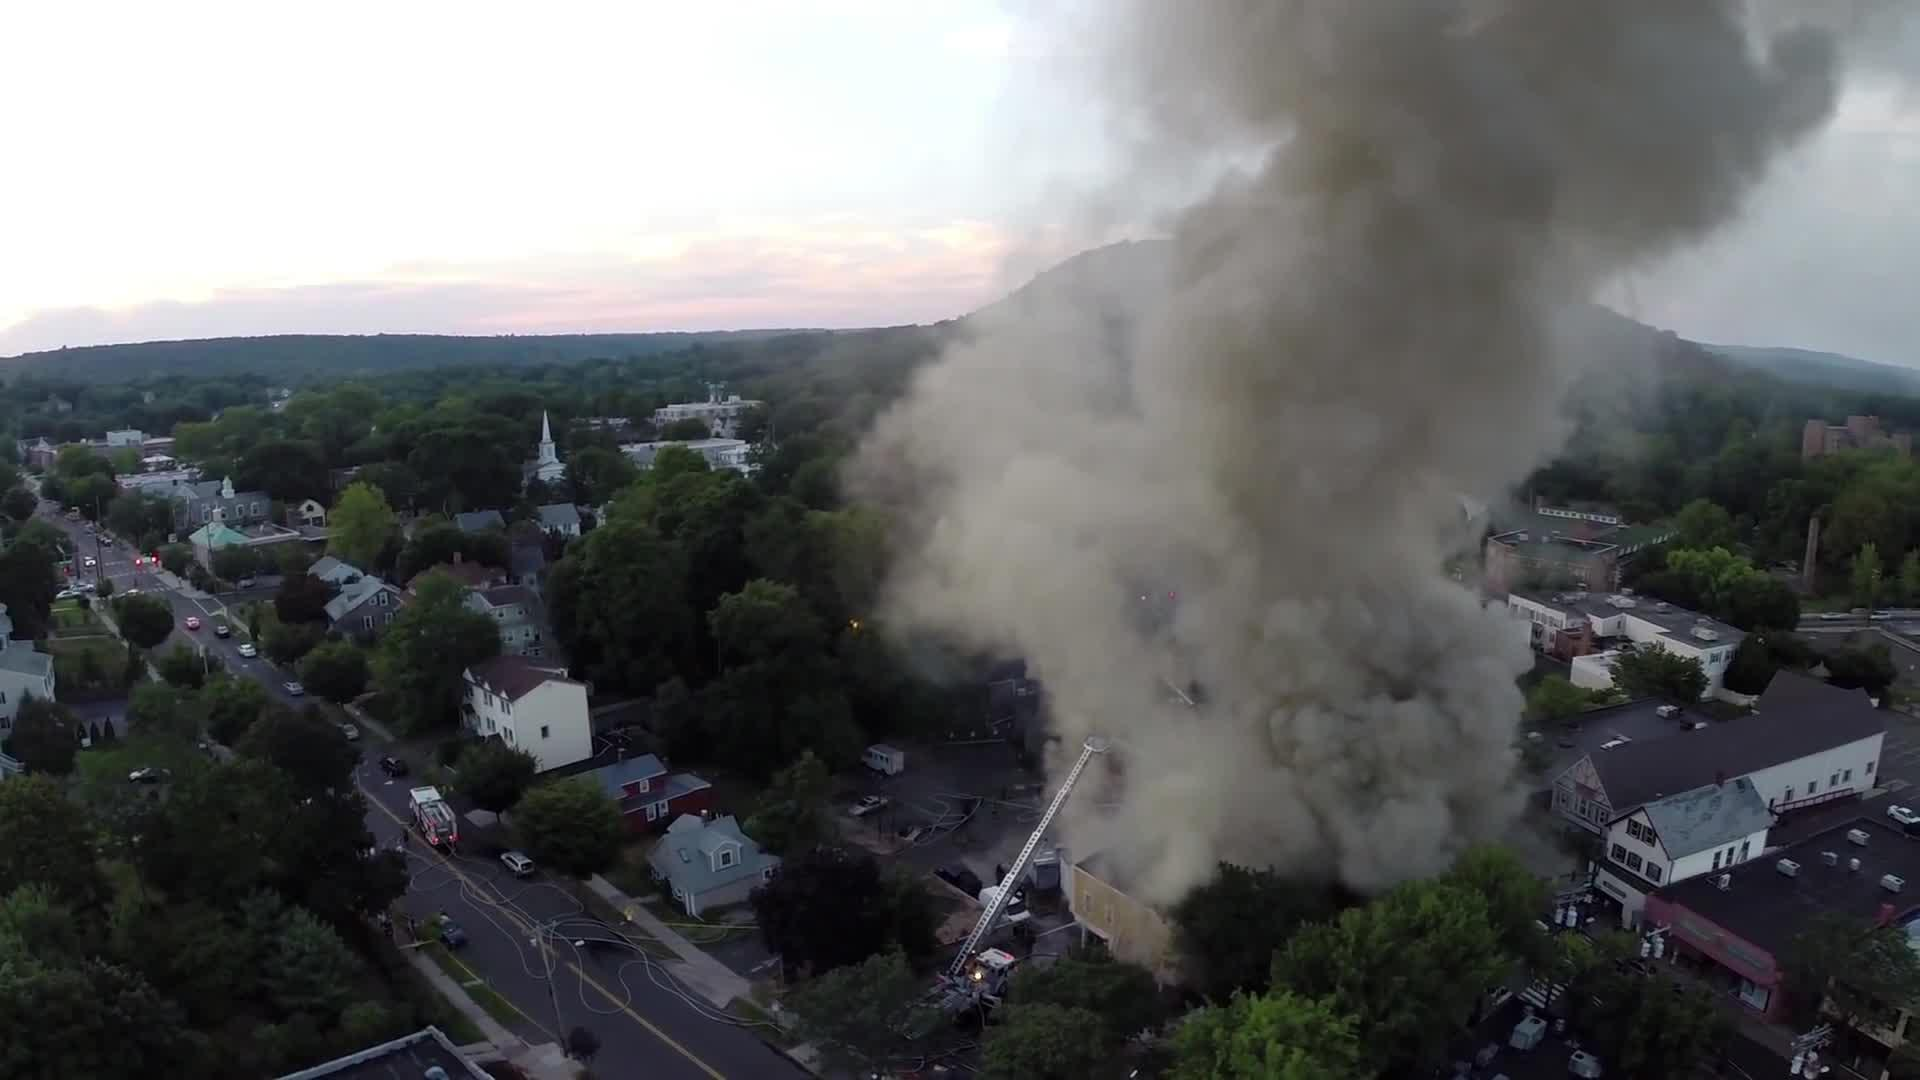smoke: (1190, 0, 1520, 850), (952, 300, 1200, 780), (1540, 0, 1810, 215)
